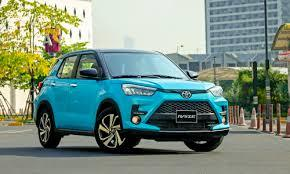toyota: (177, 89, 192, 98)
